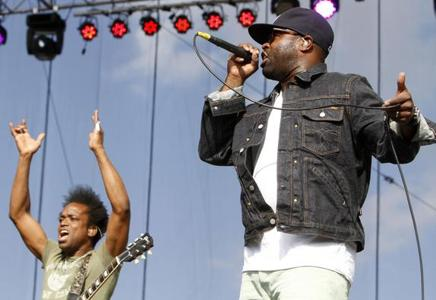person: (6, 110, 136, 300)
